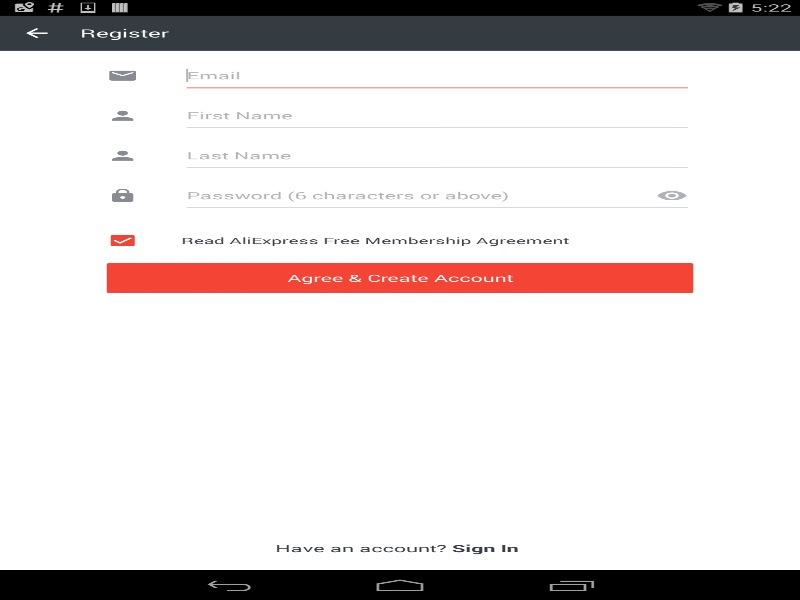Button: (0, 15, 74, 50)
Input: (181, 60, 693, 90), (181, 100, 693, 130), (181, 140, 693, 170), (181, 180, 693, 210)
